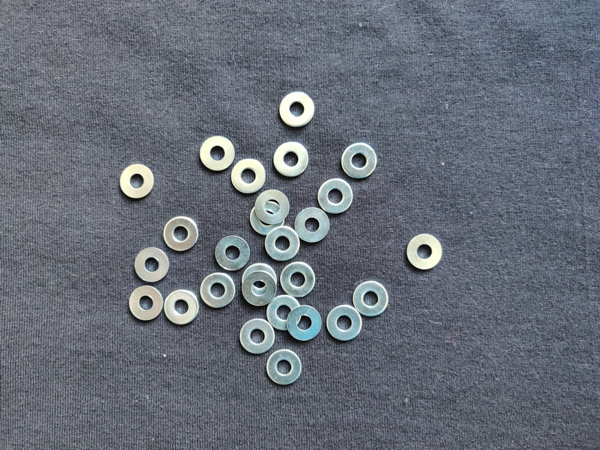circle: (198, 270, 238, 311), (269, 140, 310, 180), (264, 349, 307, 387), (117, 162, 157, 202), (266, 293, 305, 333), (198, 133, 237, 173), (293, 205, 331, 245), (406, 233, 443, 274), (162, 290, 201, 328), (352, 280, 391, 318), (340, 142, 379, 180), (213, 235, 251, 274), (132, 245, 171, 283), (238, 320, 278, 357), (279, 90, 318, 127), (164, 213, 200, 252), (317, 178, 354, 215), (263, 226, 301, 262), (242, 263, 277, 302), (128, 285, 164, 322), (280, 262, 317, 298), (327, 304, 363, 341), (230, 157, 267, 193), (242, 271, 278, 306), (251, 201, 286, 237), (288, 306, 321, 341), (255, 191, 291, 223)
